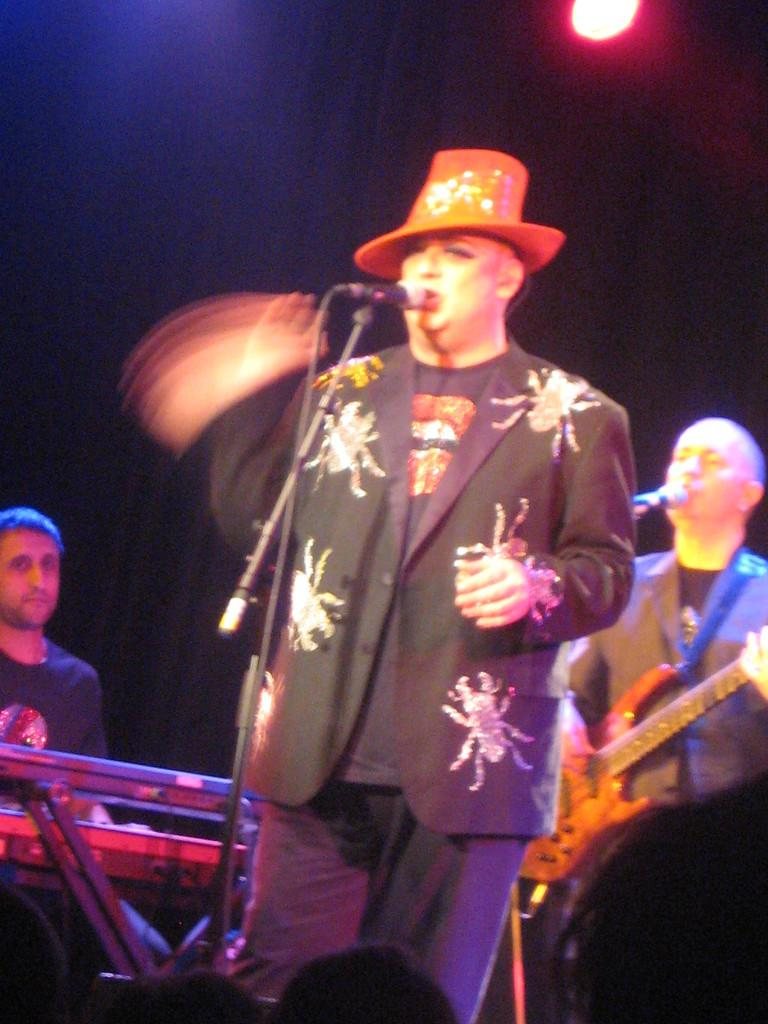Hat: (355, 148, 561, 278)
